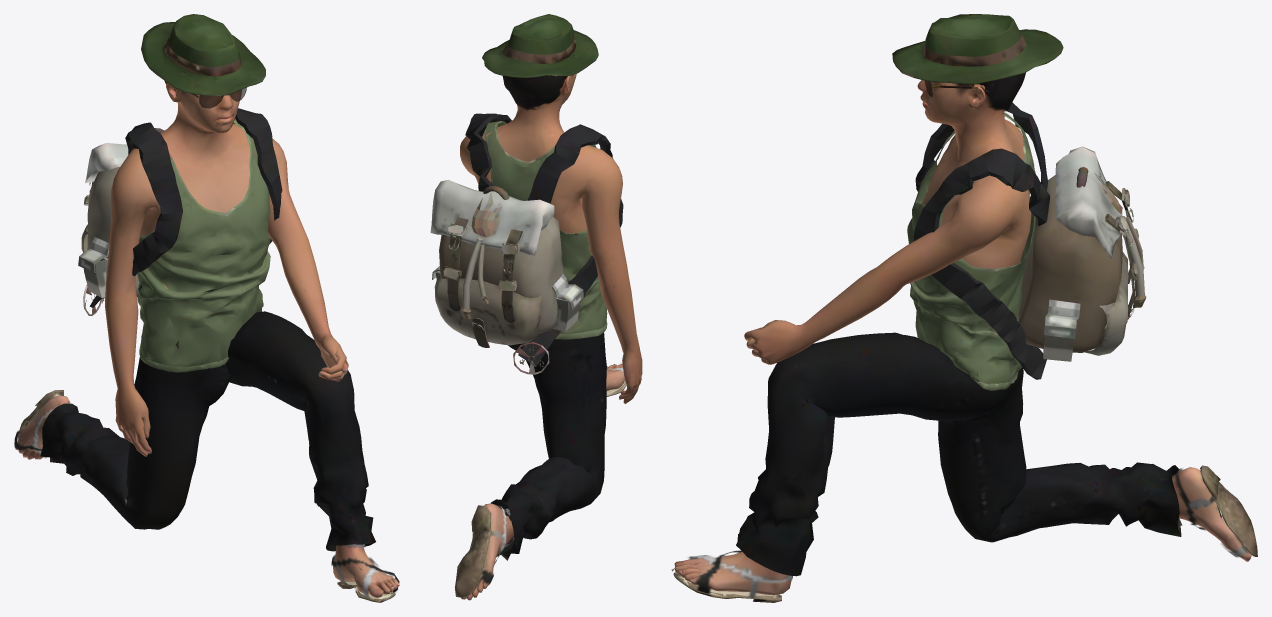
3 renders of one model, left to right at view 1: azimuth 30°, elevation 25°; view 2: azimuth 150°, elevation 25°; view 3: azimuth 270°, elevation 25°, orthographic. The views are drawn at different scales.
Visible parts, largest first — view 1: p02783; view 2: p02783; view 3: p02783.
Boxes of the visible parts, x1=… form: p02783: x1=14, y1=14, x2=399, y2=602; p02783: x1=430, y1=14, x2=642, y2=600; p02783: x1=671, y1=14, x2=1257, y2=602.
Size of the model in its own units: 0.4835 by 1.34 by 1.26.
1 material, 1 textured.
